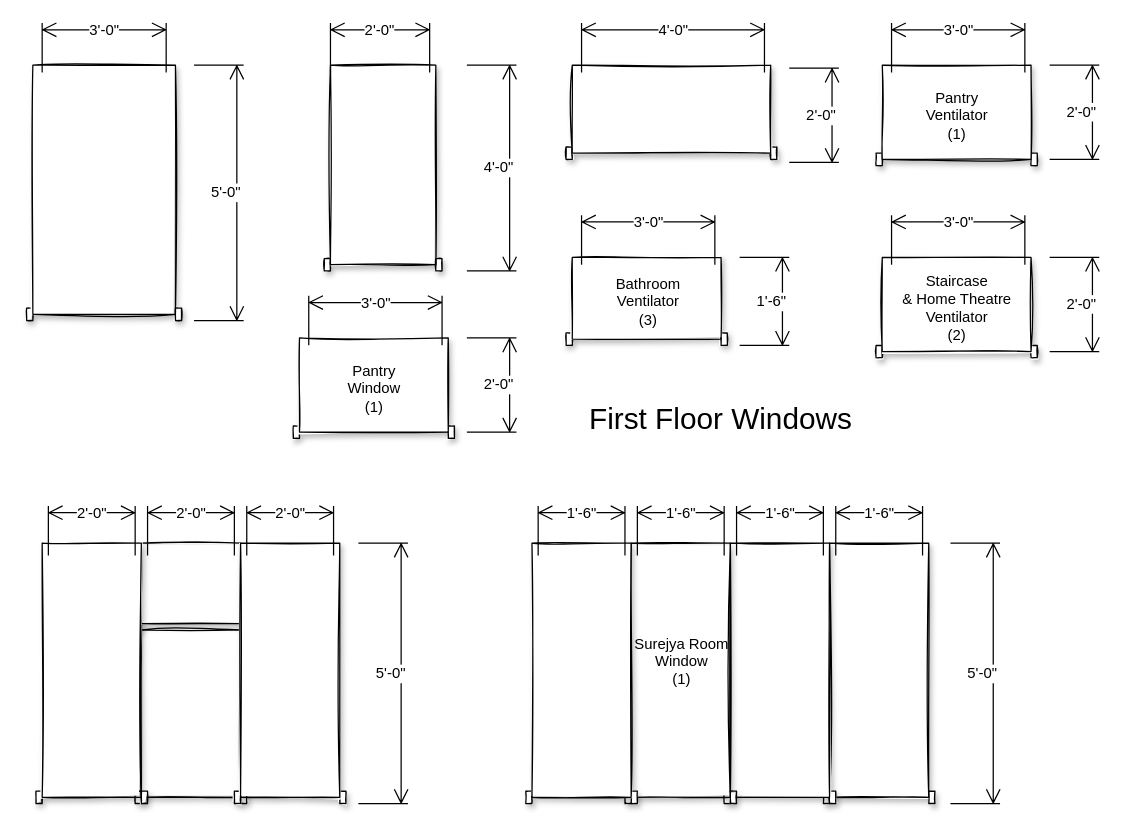
Image size: 1121x833. Some labels were removed from this diagram. Here are the shapes that lost their labels. From the top down, the centre of each, then its label:
the point at 672,113: Home Theatre Window (1)
the point at 384,169: South & West Windows (3)
the point at 104,194: North Window (1)
the point at 191,718: Dhyuti Room Window (1)
